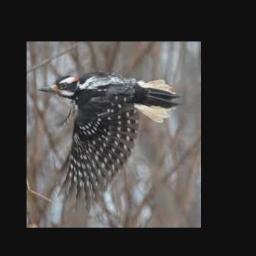Woodpecker: (39, 71, 180, 209)
